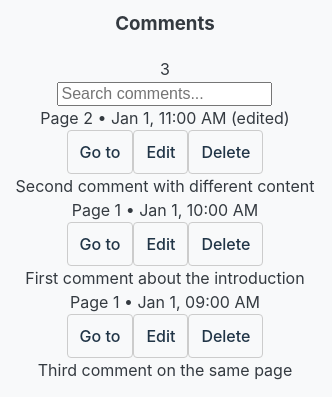
Test: CommentList › Search Functionality › shows empty state when search has no results
Type "nonexistent" into the field with placeholder "Search comments..." at (165, 94), box top-left (58, 82), bottom-right (272, 106)
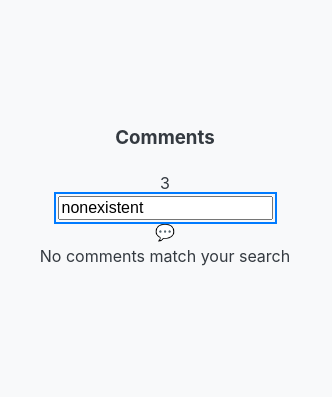
Check: the text "No comments match your search" is shown, box top-left (40, 244), bottom-right (290, 268)
